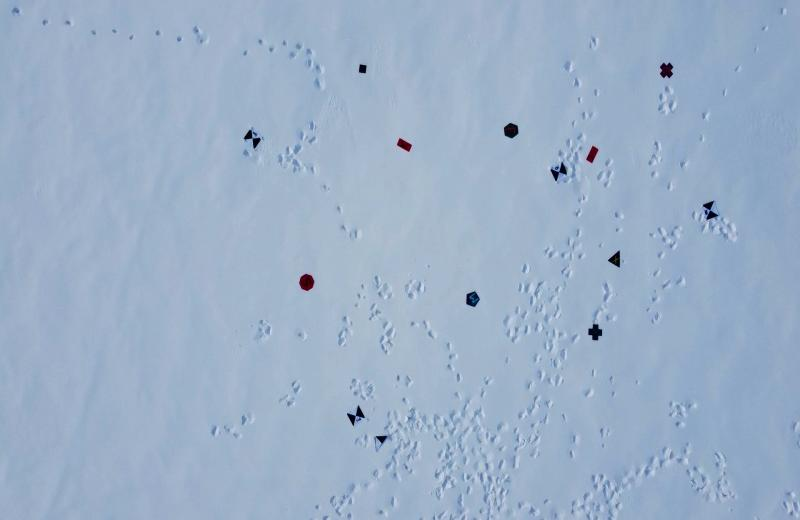Cross: (588, 323, 602, 342), (658, 62, 674, 78)
Hexagon: (504, 122, 520, 140)
Octagon: (298, 272, 316, 292)
Pentagon: (465, 290, 481, 308)
Rectangle: (585, 145, 599, 165), (397, 138, 413, 154)
Square: (358, 63, 368, 75)
Triangle: (608, 249, 622, 267)
